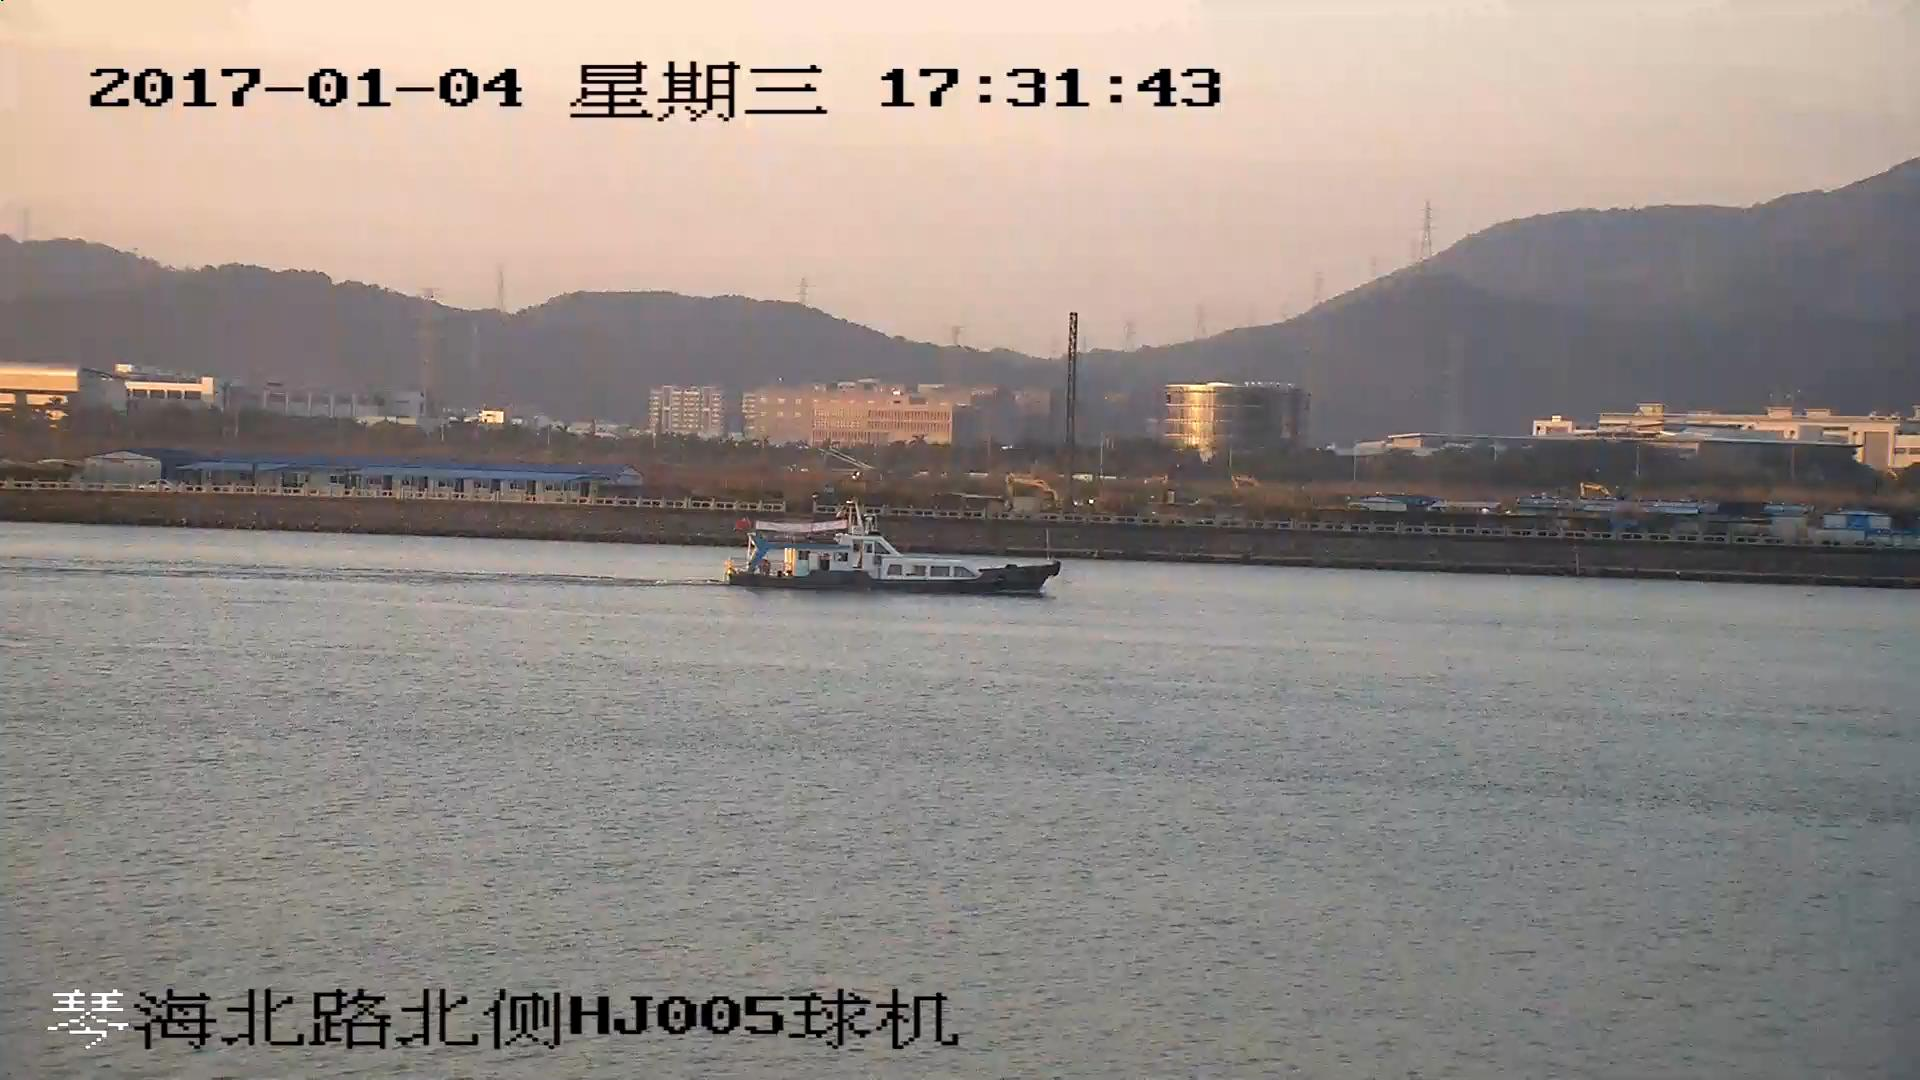fishing boat: (720, 519, 1058, 597)
